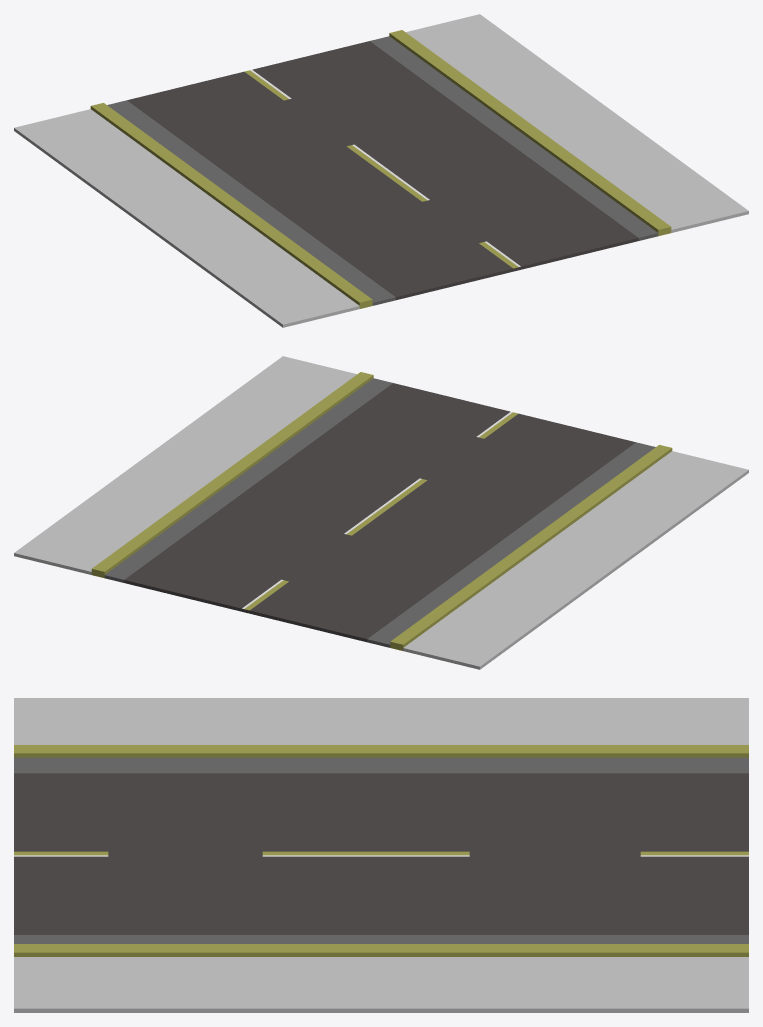
The model's file is Carretera_normal_1.fbx.
The picture shows the model from 3 angles, top to bottom: view 1: azimuth 30°, elevation 25°; view 2: azimuth 150°, elevation 25°; view 3: azimuth 270°, elevation 25°; orthographic projection. The views are drawn at different scales.
Parts seen in each view (by area): view 1: Carretera_normal_1; view 2: Carretera_normal_1; view 3: Carretera_normal_1.
Boxes of the visible parts, left/top/right/bottom form: Carretera_normal_1: left=14, top=14, right=748, bottom=327; Carretera_normal_1: left=14, top=356, right=748, bottom=669; Carretera_normal_1: left=14, top=698, right=748, bottom=1012.
Bounding box in the file's own units: 36 × 0.4679 × 36.
